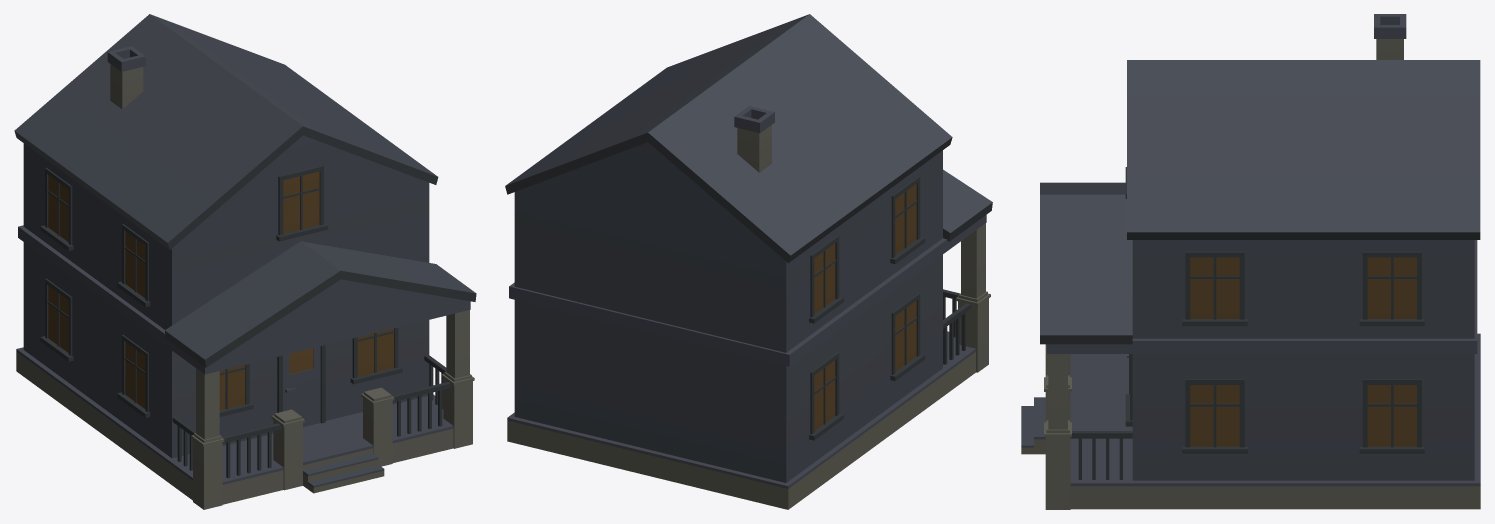
Rendered from SuburbHouse_01.fbx.
3 views of the same model, side by side, from view 1: azimuth 30°, elevation 25°; view 2: azimuth 150°, elevation 25°; view 3: azimuth 270°, elevation 25° (orthographic). The views are drawn at different scales.
Visible parts, largest first — view 1: SuburbHouse_01; view 2: SuburbHouse_01; view 3: SuburbHouse_01.
Boxes of the visible parts, x1,y1,x2,y2 form: SuburbHouse_01: [14, 14, 476, 509]; SuburbHouse_01: [505, 14, 992, 509]; SuburbHouse_01: [1021, 14, 1480, 509].
Bounding box in the file's own units: 6.34 × 7.33 × 8.06.
